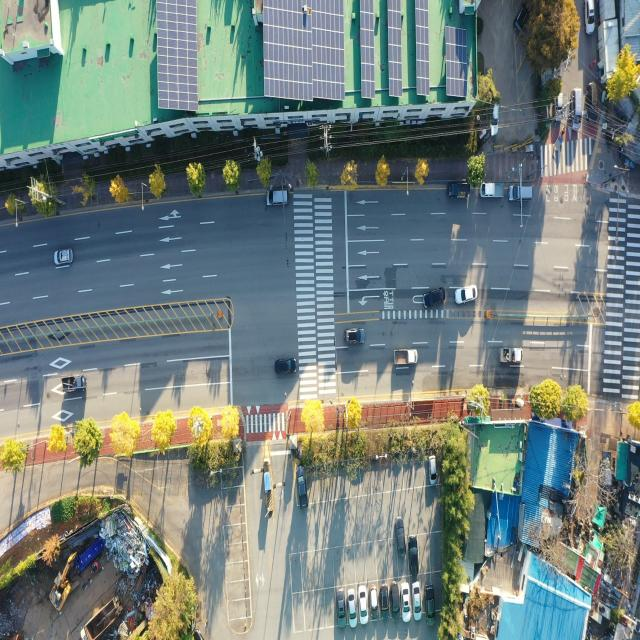car: (507, 181, 534, 205), (489, 96, 500, 137), (346, 584, 356, 628), (423, 289, 446, 308), (296, 468, 306, 508), (268, 188, 290, 206), (276, 357, 298, 375), (426, 584, 436, 623), (456, 286, 477, 304), (513, 2, 525, 32), (411, 536, 420, 574), (395, 518, 404, 556), (586, 0, 596, 34), (414, 583, 423, 620), (344, 330, 364, 346), (381, 584, 390, 618), (55, 249, 74, 265), (358, 586, 366, 624), (391, 584, 399, 620), (338, 590, 346, 625), (401, 584, 409, 618), (368, 587, 376, 620), (557, 96, 566, 122), (429, 454, 436, 484)
medium_truck: (77, 594, 124, 640)
small_truck: (62, 371, 87, 396), (395, 349, 419, 367), (448, 182, 471, 200), (572, 88, 582, 129), (481, 182, 504, 199), (588, 80, 597, 123), (500, 348, 522, 364)
